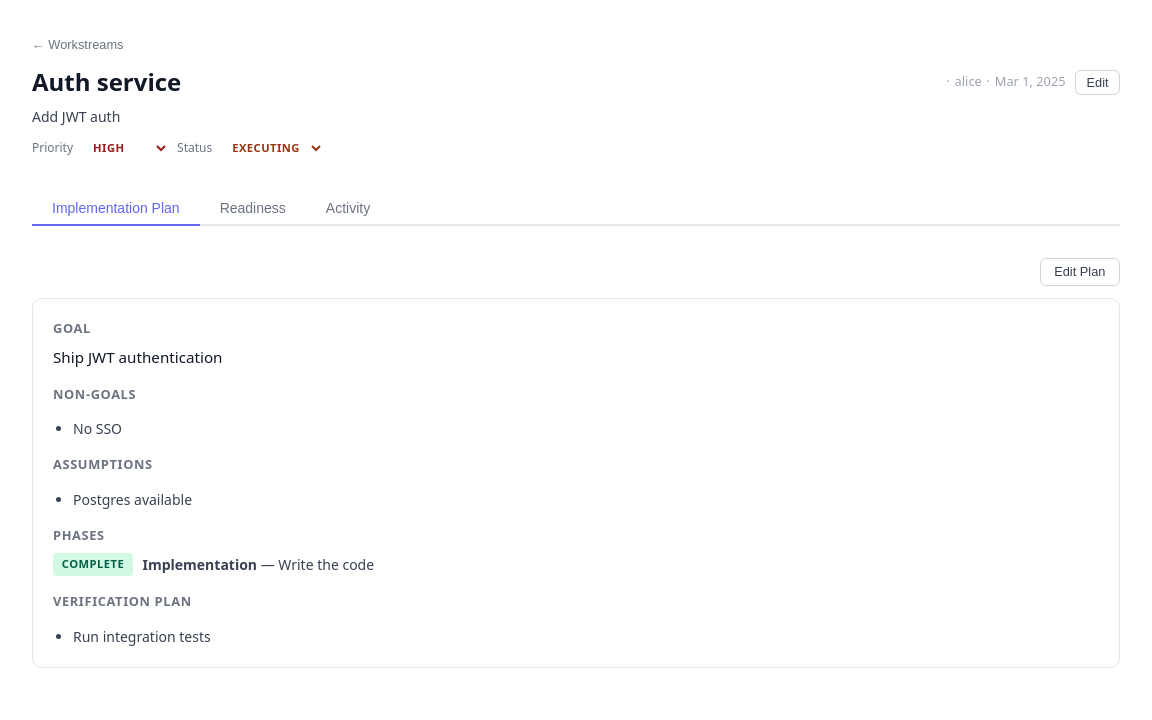
Test: WorkstreamDetailView › adds a new activity event via the form
Step 1. Click the button with class "tab-btn" showing "Activity" → click(348, 209), box [306, 192, 390, 226]
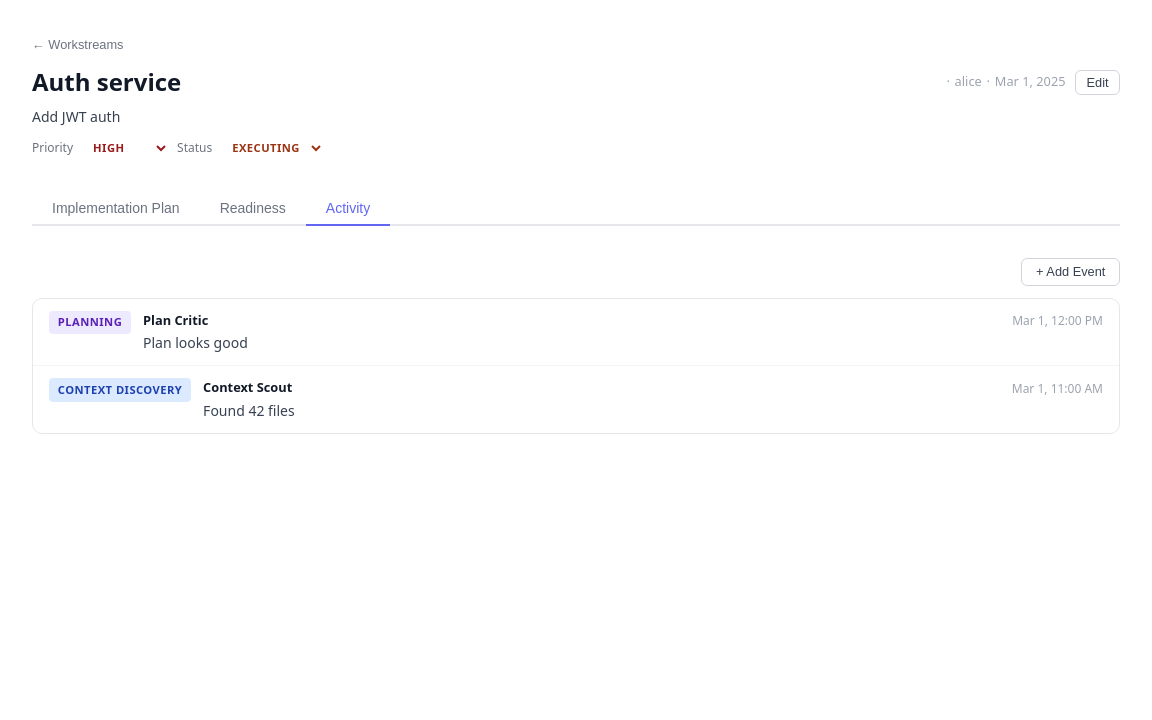
Step 2. Click the button "+ Add Event" → click(1071, 272), box [1021, 258, 1120, 286]
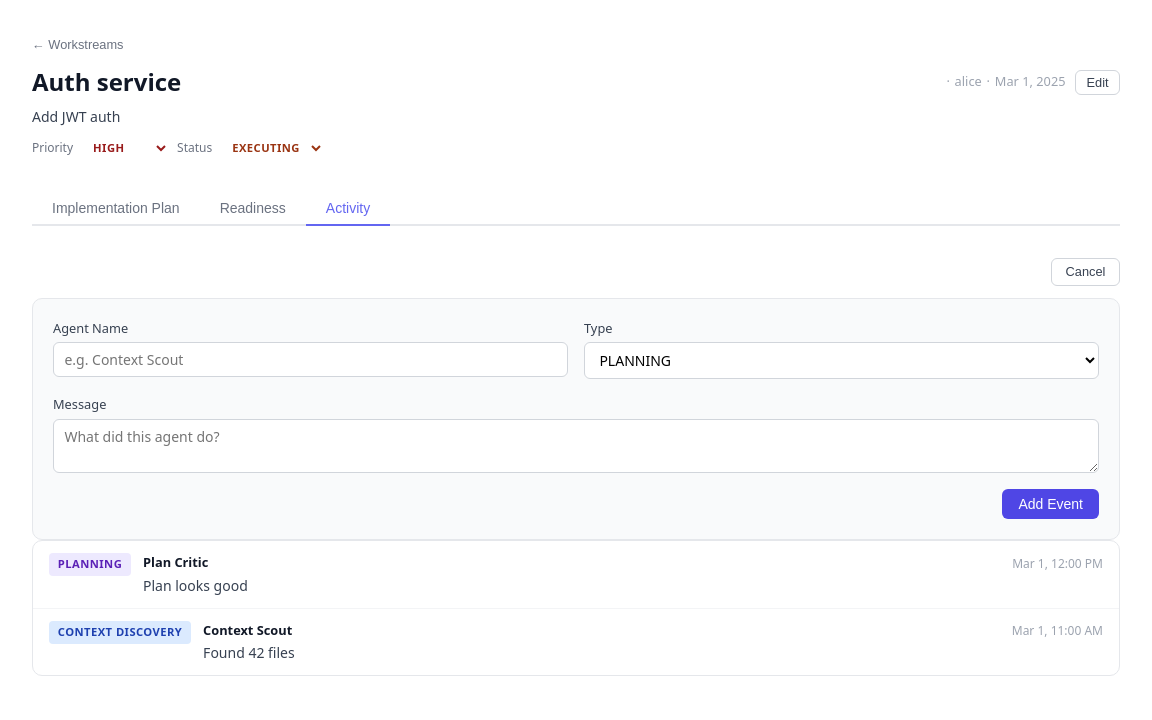
Step 3. Type "Test Bot" into the field with placeholder "e.g. Context Scout" → (310, 360), box [53, 342, 568, 377]
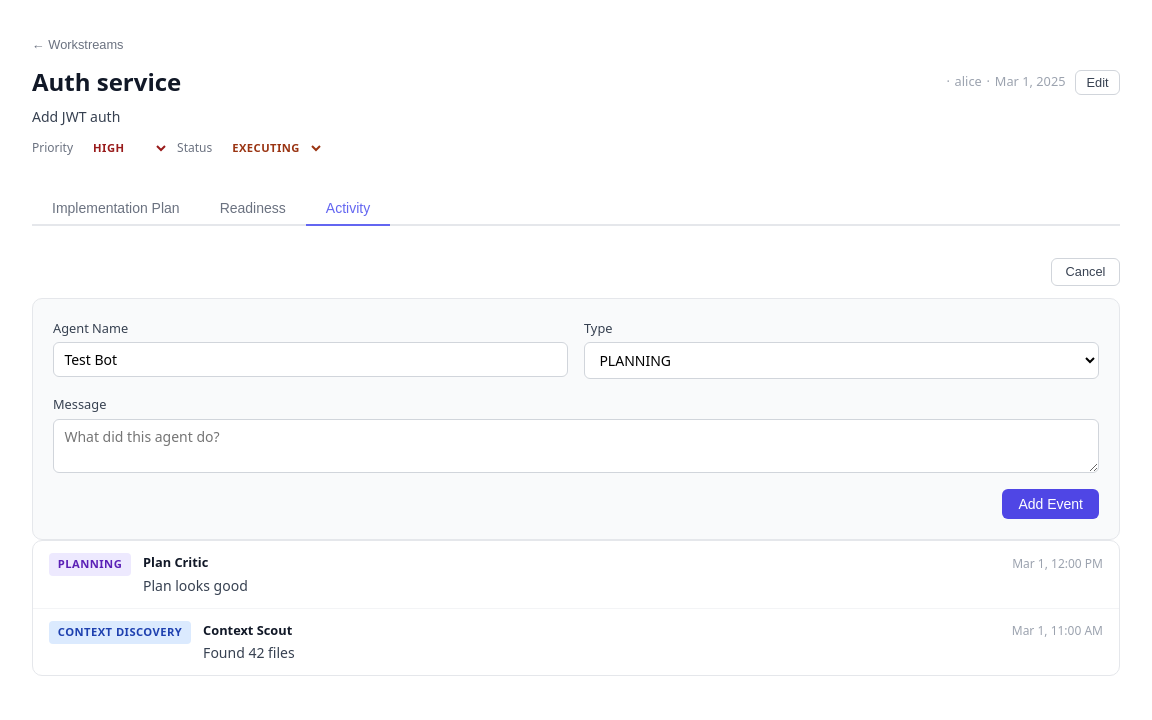
Step 4. Type "Done" into the text box with placeholder "What did this agent do?" → (576, 446), box [53, 418, 1099, 473]
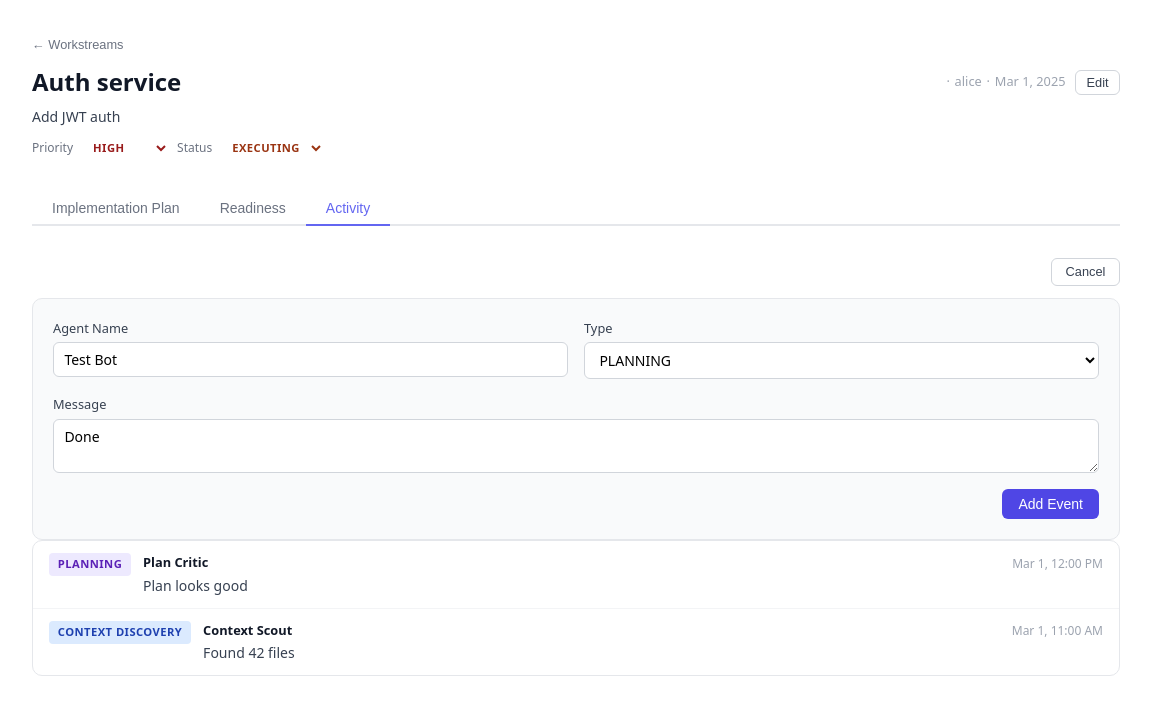
Step 5. Submit the form, box [32, 298, 1120, 540]
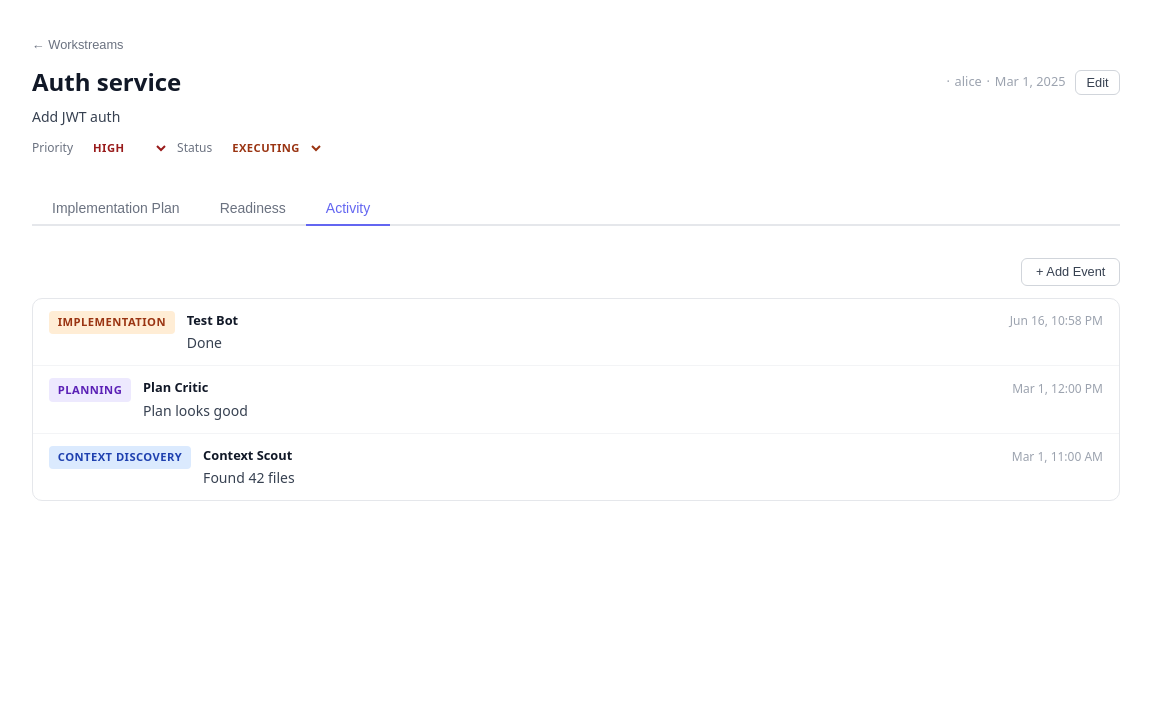
Result: the text "Test Bot" is shown at [187, 311, 238, 329]
